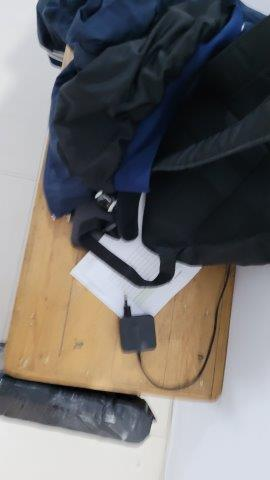kertas: (69, 194, 203, 322)
